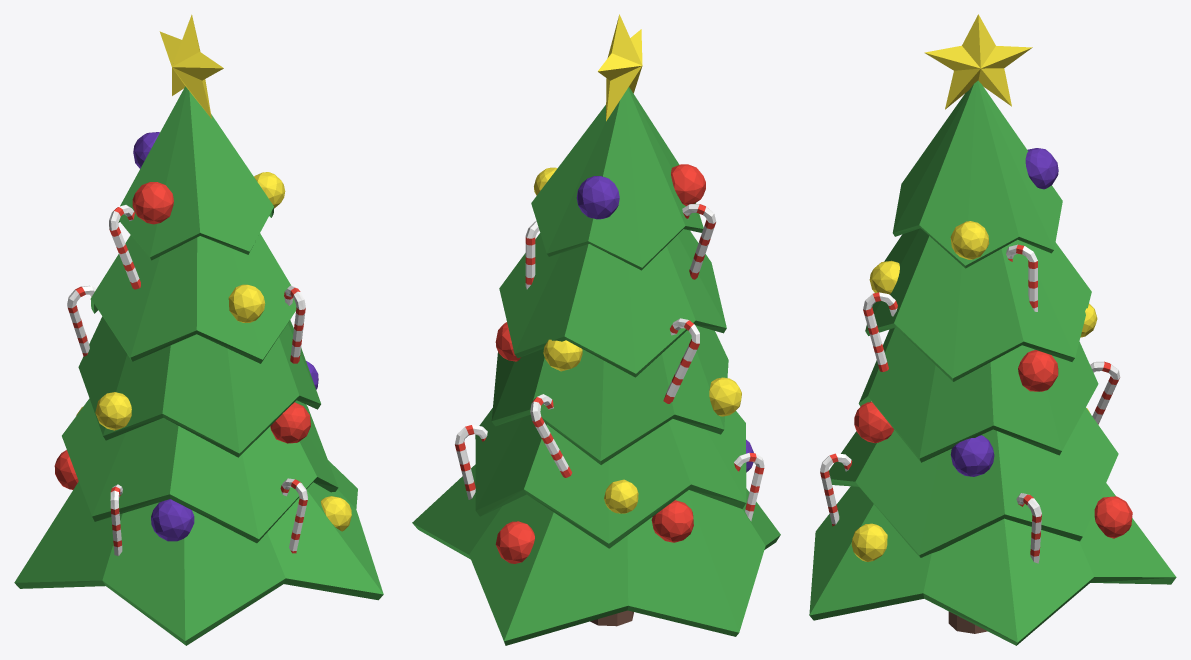
Rendered from Tree.fbx.
The picture shows the model from 3 angles, left to right: view 1: azimuth 30°, elevation 25°; view 2: azimuth 150°, elevation 25°; view 3: azimuth 270°, elevation 25°; orthographic projection.
Parts seen in each view (by area): view 1: group_558281359, group_148092846, group_667748054, group_615263083, group_1540402439, group_1827880687, mesh_1410509470, mesh_1089073295, mesh_1164989660, mesh_1127207942, mesh_179461400, group_77345095 (+8 smaller); view 2: group_558281359, group_148092846, group_615263083, group_667748054, group_1540402439, group_1827880687, mesh_2051798186, mesh_1832615123, mesh_411241951, mesh_1089073295, group_1969426104, group_948351503 (+8 smaller); view 3: group_558281359, group_148092846, group_615263083, group_667748054, group_1540402439, group_1827880687, mesh_214022184, mesh_1633066821, mesh_411241951, mesh_922588407, mesh_1164989660, mesh_1084830891 (+7 smaller).
Boxes of the visible parts, x1,y1,x2,y2 form: group_558281359: [14, 460, 383, 645]; group_148092846: [62, 398, 338, 543]; group_667748054: [78, 316, 320, 457]; group_615263083: [90, 233, 296, 363]; group_1540402439: [118, 86, 273, 260]; group_1827880687: [159, 14, 223, 118]; mesh_1410509470: [151, 499, 194, 541]; mesh_1089073295: [132, 182, 173, 224]; mesh_1164989660: [270, 402, 310, 443]; mesh_1127207942: [228, 284, 265, 322]; mesh_179461400: [95, 392, 131, 430]; group_77345095: [109, 205, 140, 289]; group_558281359: [412, 464, 780, 645]; group_148092846: [475, 408, 746, 548]; group_615263083: [499, 229, 726, 377]; group_667748054: [491, 325, 728, 464]; group_1540402439: [531, 87, 703, 270]; group_1827880687: [597, 14, 642, 121]; mesh_2051798186: [576, 176, 619, 219]; mesh_1832615123: [651, 500, 693, 542]; mesh_411241951: [495, 521, 534, 563]; mesh_1089073295: [671, 164, 705, 206]; group_1969426104: [663, 318, 699, 403]; group_948351503: [530, 394, 572, 477]; group_558281359: [809, 483, 1176, 645]; group_148092846: [829, 407, 1118, 557]; group_615263083: [865, 228, 1091, 381]; group_667748054: [858, 327, 1098, 462]; group_1540402439: [892, 80, 1062, 268]; group_1827880687: [924, 14, 1032, 109]; mesh_214022184: [950, 435, 994, 476]; mesh_1633066821: [1018, 350, 1058, 391]; mesh_411241951: [1094, 496, 1132, 538]; mesh_922588407: [950, 221, 989, 259]; mesh_1164989660: [854, 401, 893, 443]; mesh_1084830891: [851, 523, 887, 561].
Size of the model in its own units: 89.53 by 154 by 84.8.
